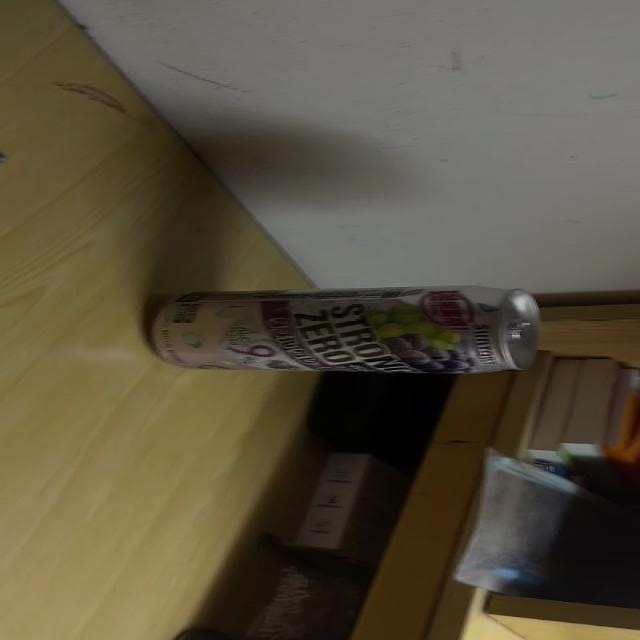Liquor: (148, 287, 546, 373)
